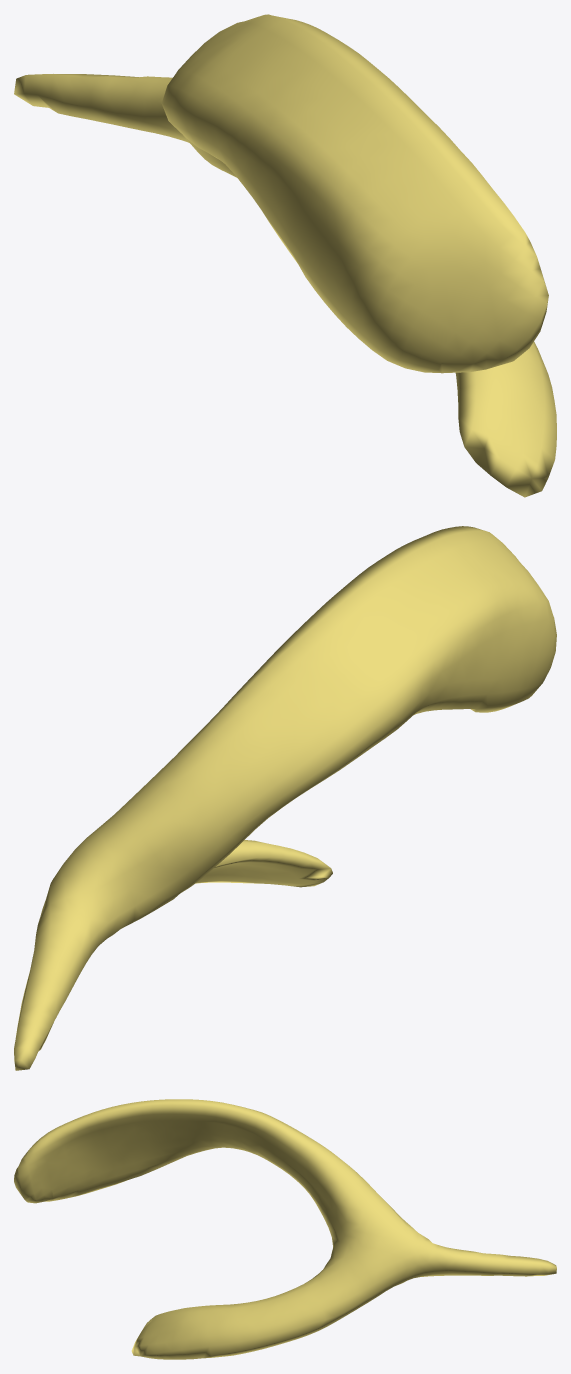
The model's file is lateral-ventricle-l.glb.
3 renders of one model, top to bottom at view 1: azimuth 30°, elevation 25°; view 2: azimuth 150°, elevation 25°; view 3: azimuth 270°, elevation 25°, orthographic. The views are drawn at different scales.
Visible parts, largest first — view 1: Lateral ventricle.l; view 2: Lateral ventricle.l; view 3: Lateral ventricle.l.
Part boxes in pixels (x1,y1,x2,y2): Lateral ventricle.l: (14,14,556,497); Lateral ventricle.l: (14,526,556,1070); Lateral ventricle.l: (14,1099,556,1359).
Size of the model in its own units: 0.0374 by 0.0472 by 0.1059.
